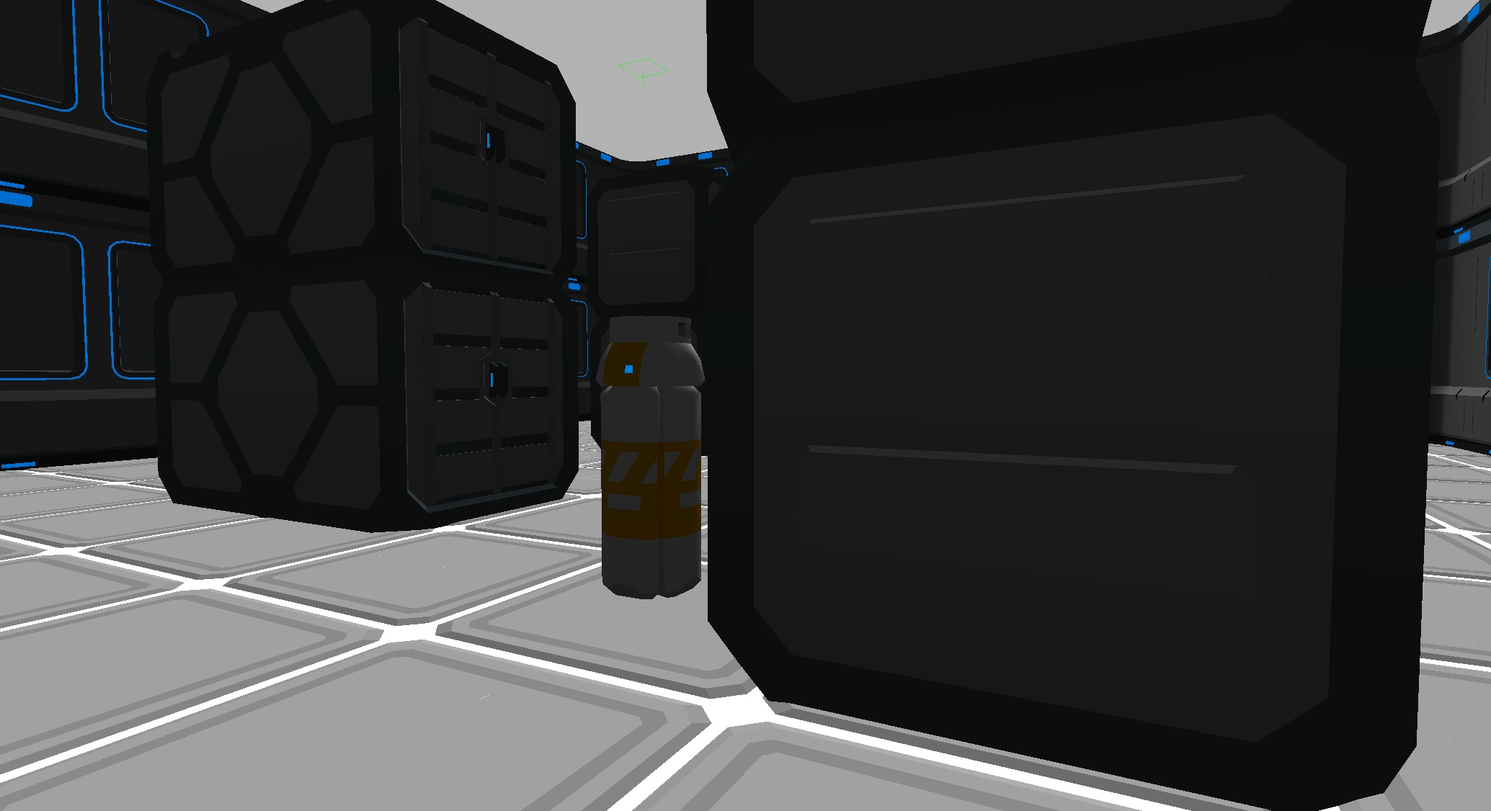yellow_barrel: (600, 316, 704, 598)
